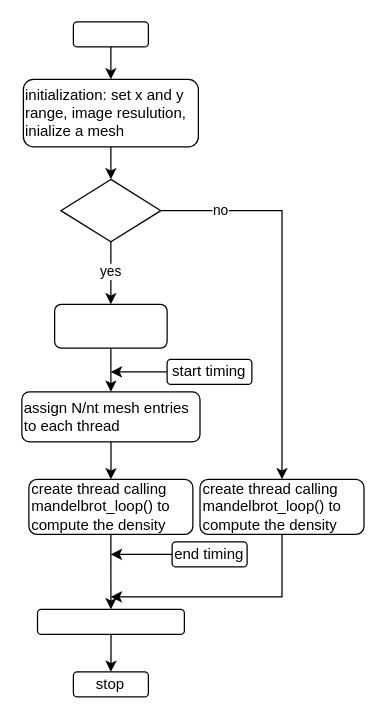
The diagram is 386 pixels wide and 719 high, and some of its shapes have lost their labels. The shapes that lost their labels are listed below. From the top down, each one's centre as x and y in pixels, then its label:
At point 110,34: "start".
At point 110,210: "nt > 1?".
At point 110,325: "parallel program".
At point 110,621: "plot image, save data".
